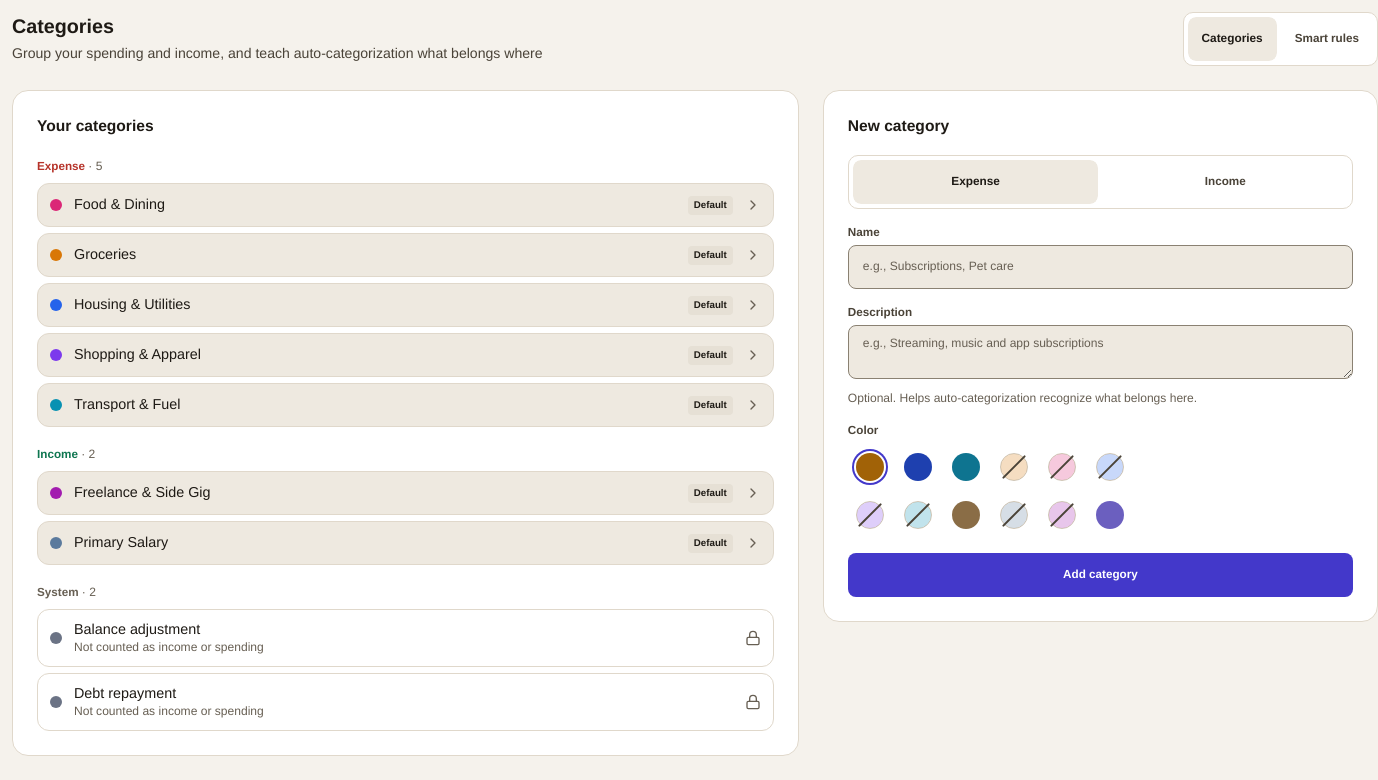
Test: delete, from lg › a default has no Delete, and says why
Click the button with id "category-edit-cat-housing" at (132, 304), box [37, 283, 774, 327]
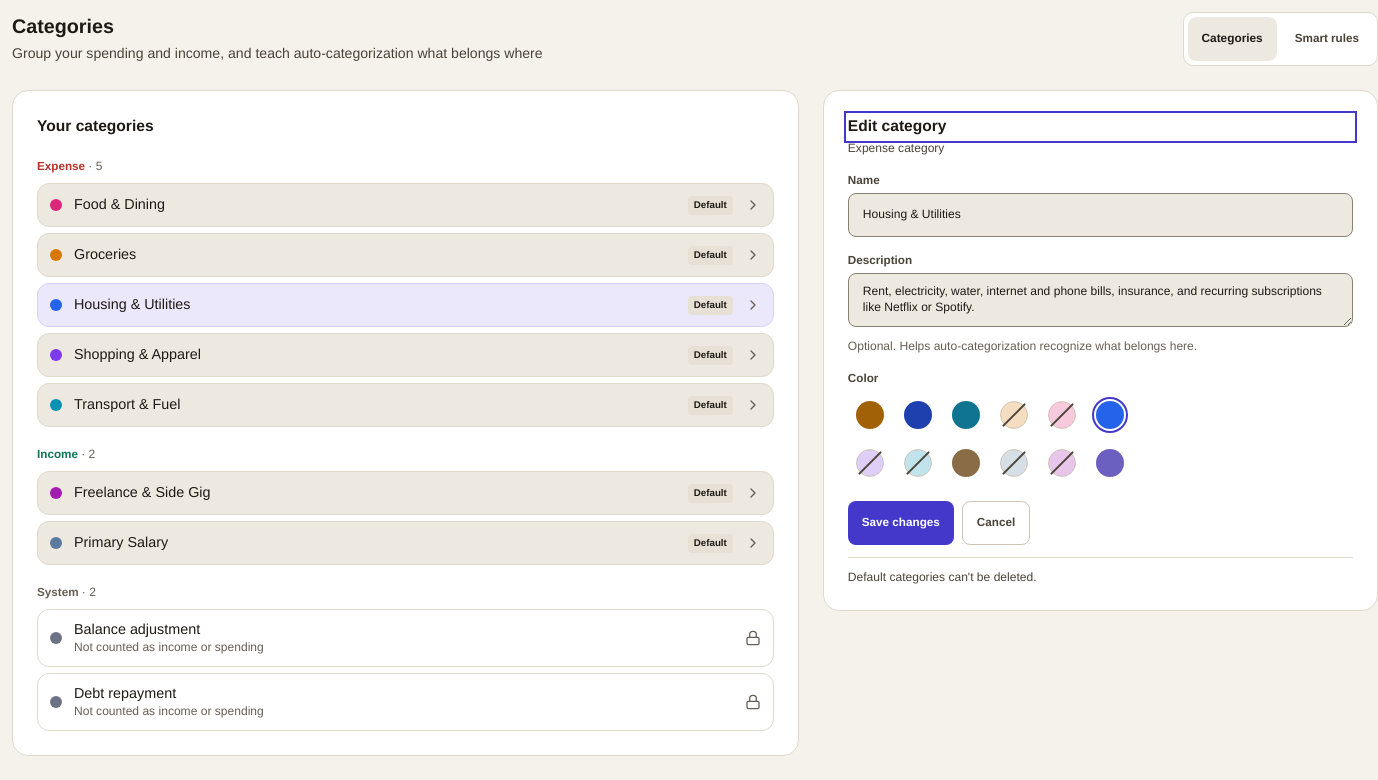
Expected: the text "Default categories can't be deleted." is shown, [848, 568, 1036, 587]
